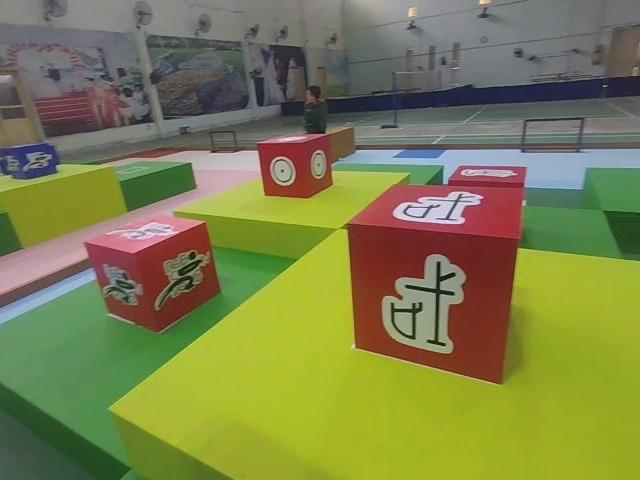R1: (83, 217, 223, 336)
R2 Real: (350, 181, 521, 388), (255, 132, 335, 199)
